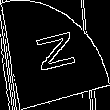N_W: (30, 30, 80, 80)
